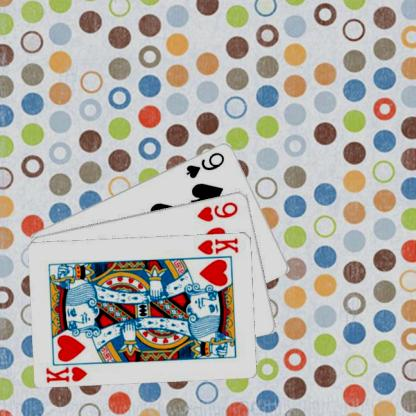9H: (195, 198, 240, 223)
9S: (183, 149, 226, 180)
KH: (43, 364, 89, 384), (195, 235, 240, 255)
